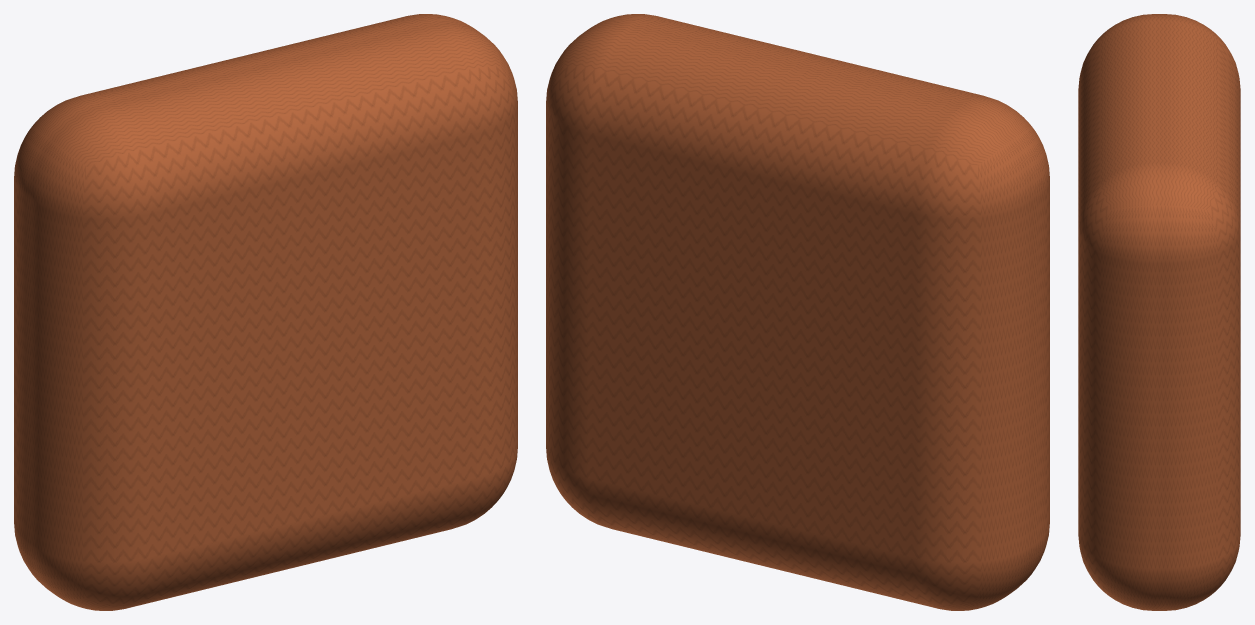
Rendered from pillow-square.glb.
The picture shows the model from 3 angles, left to right: view 1: azimuth 30°, elevation 25°; view 2: azimuth 150°, elevation 25°; view 3: azimuth 270°, elevation 25°; orthographic projection. The views are drawn at different scales.
Visible parts, largest first — view 1: pillow-square; view 2: pillow-square; view 3: pillow-square.
Part boxes in pixels (x1,y1,x2,y2): pillow-square: [14, 14, 517, 610]; pillow-square: [546, 14, 1049, 610]; pillow-square: [1078, 14, 1240, 610].
Size of the model in its own units: 0.45 by 0.45 by 0.15.
Materials: 1 (1 with a texture image).
